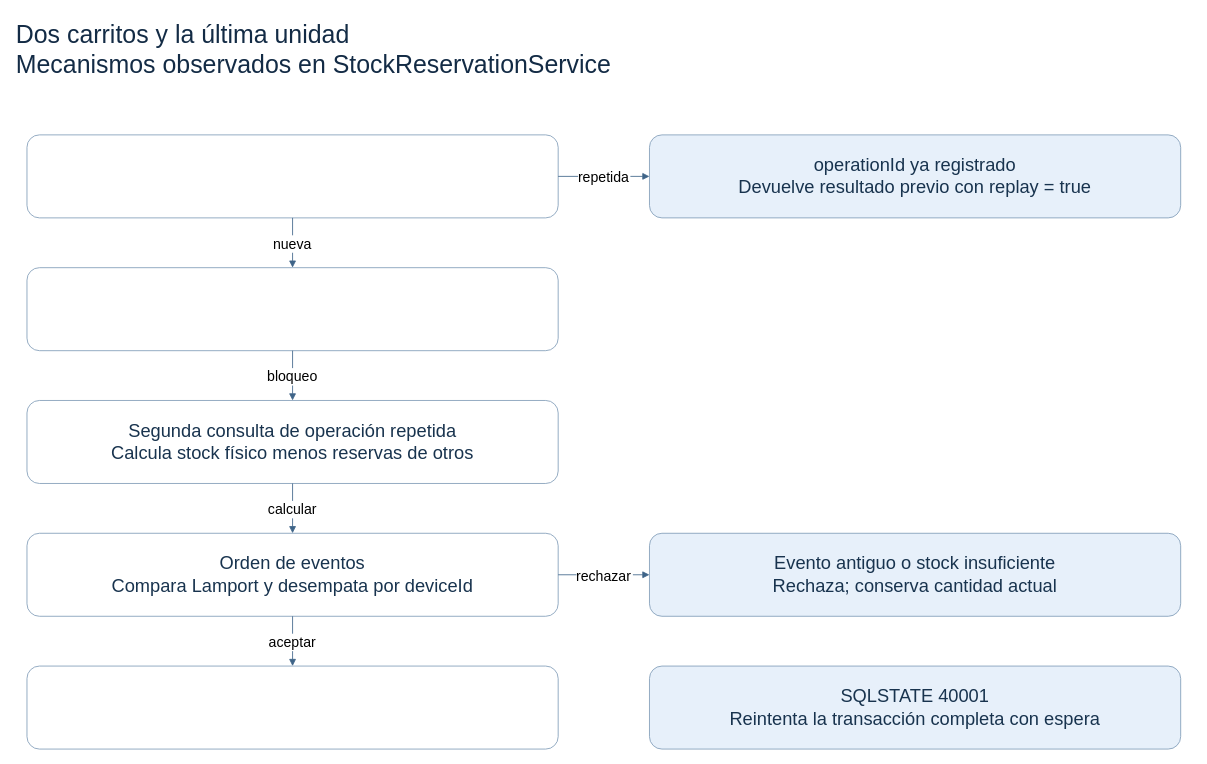
This 1207x764 diagram has some shape labels left out. The centre of each missing label's shape, as x and y in pixels:
Evento nuevo y cantidad disponible Actualiza reserva y guarda resultado: (292,707)
reconcile(command) Valida comando y busca operación repetida: (292,176)
Transacción mediante retryExecutor SELECT de stock ... FOR UPDATE: (292,309)
